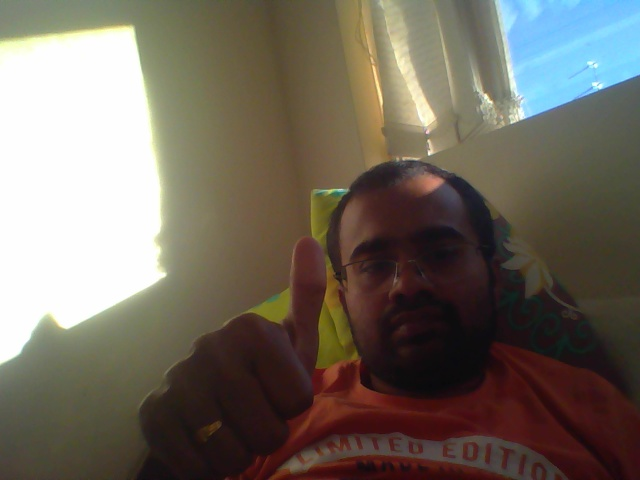ThumbsUp: (126, 234, 332, 475)
